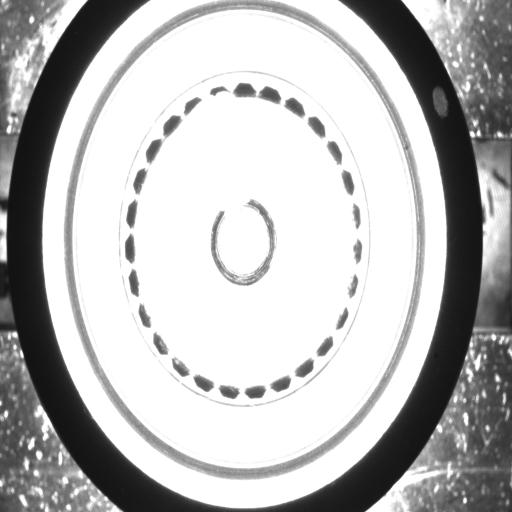gear: (122, 83, 364, 401)
